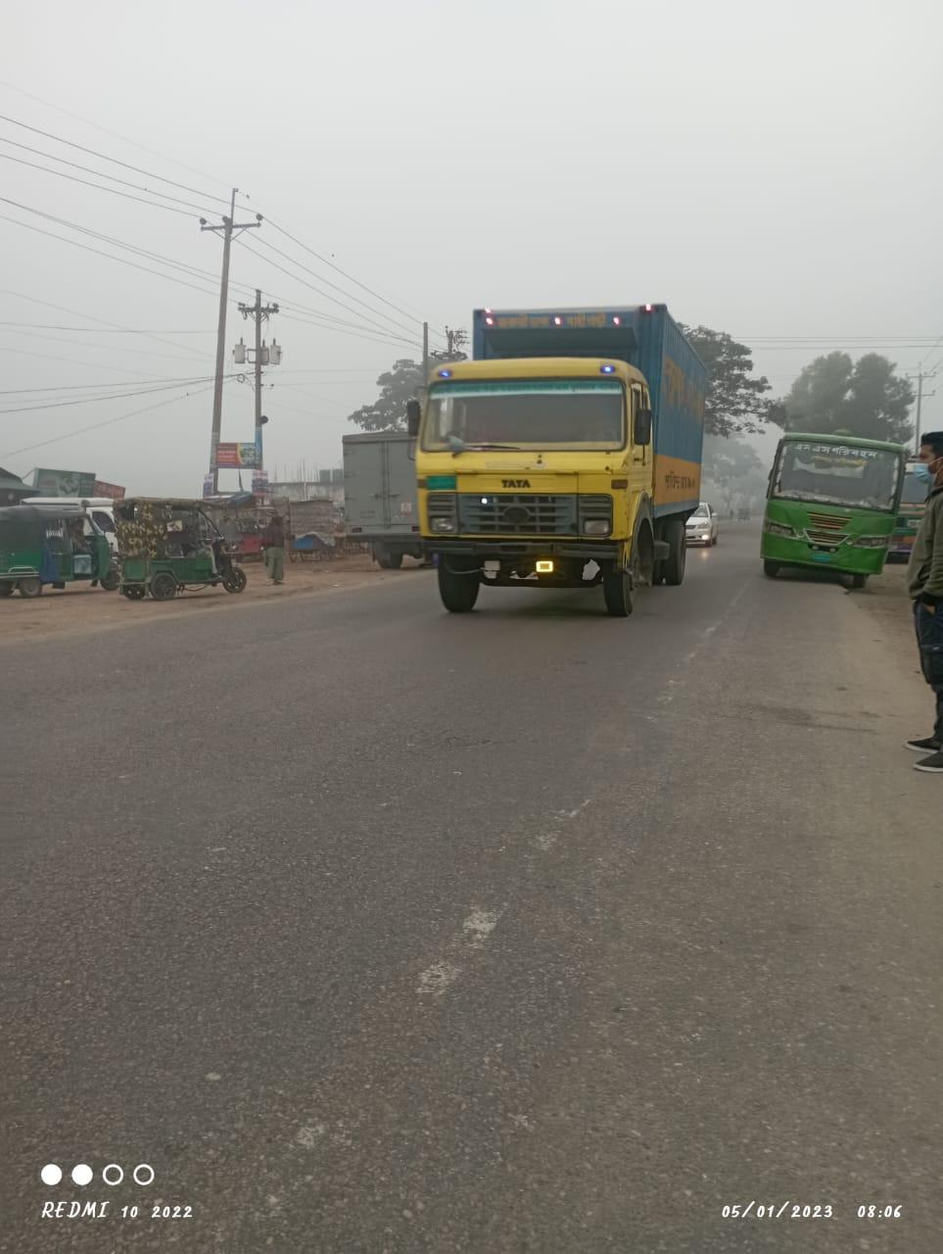Bus: (758, 415, 914, 585)
Car: (116, 489, 257, 600), (687, 495, 726, 552)
Truck: (398, 291, 719, 618), (333, 419, 433, 573)
